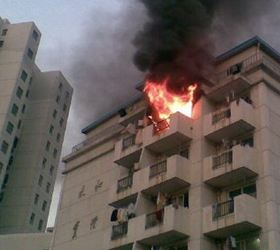fire: (137, 69, 197, 126)
